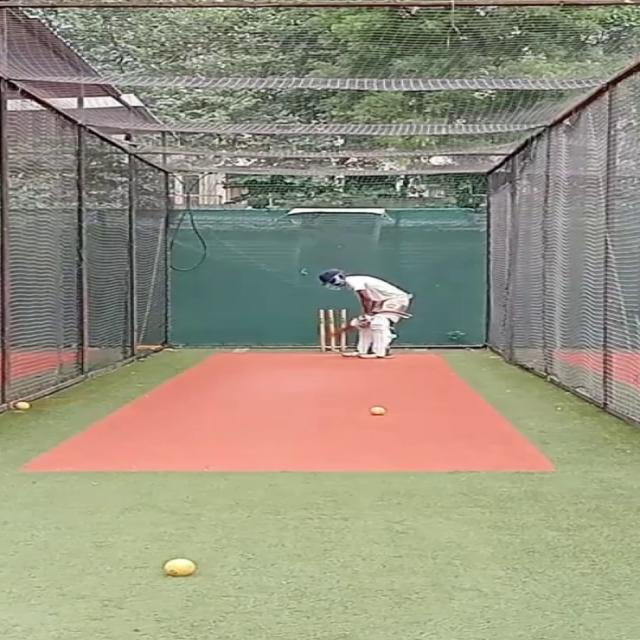ball: (159, 553, 195, 579), (8, 399, 28, 413), (368, 406, 386, 416)
stump: (315, 309, 346, 353)
